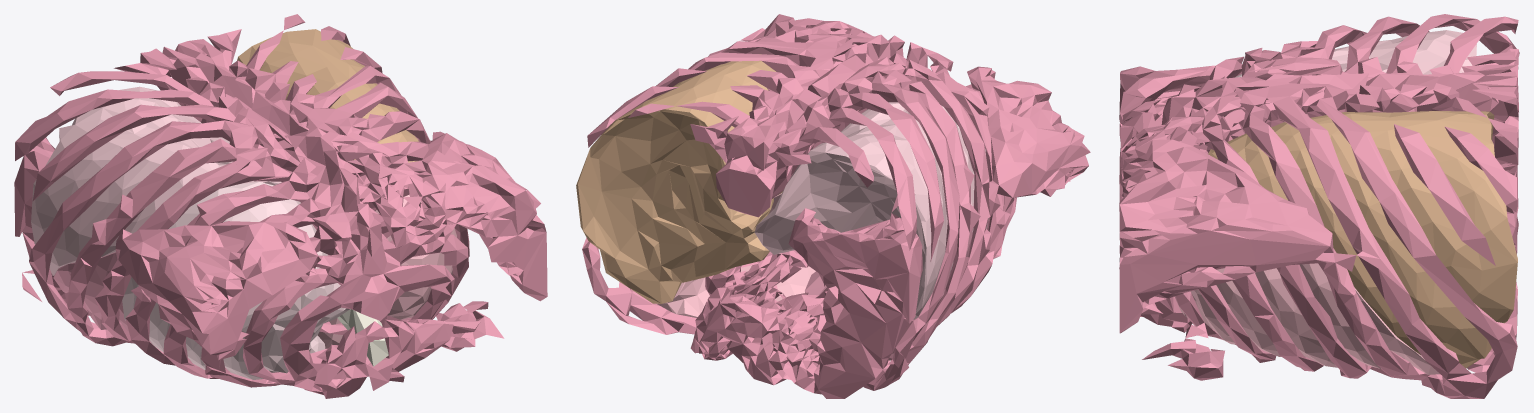
File: anatomy_parts_colored_v1.glb
The picture shows the model from 3 angles, left to right: view 1: azimuth 30°, elevation 25°; view 2: azimuth 150°, elevation 25°; view 3: azimuth 270°, elevation 25°; orthographic projection. The views are drawn at different scales.
Visible parts, largest first — view 1: left_lower_lobe_6, right_middle_lobe_3, left_upper_lobe_5, bronchus_1, right_upper_lobe_2, right_lower_lobe_4, sternum_bone_0; view 2: left_lower_lobe_6, bronchus_1, right_middle_lobe_3, right_upper_lobe_2, right_lower_lobe_4; view 3: left_lower_lobe_6, bronchus_1, right_upper_lobe_2, right_middle_lobe_3.
Boxes of the visible parts, <box> form: left_lower_lobe_6: <box>14,14,547,398</box>; right_middle_lobe_3: <box>31,86,281,275</box>; left_upper_lobe_5: <box>122,182,349,379</box>; bronchus_1: <box>237,29,418,162</box>; right_upper_lobe_2: <box>317,194,456,348</box>; right_lower_lobe_4: <box>53,252,129,332</box>; sternum_bone_0: <box>337,309,388,366</box>; left_lower_lobe_6: <box>582,14,1090,398</box>; bronchus_1: <box>576,54,782,303</box>; right_middle_lobe_3: <box>754,102,974,319</box>; right_upper_lobe_2: <box>656,193,815,317</box>; right_lower_lobe_4: <box>805,203,973,360</box>; left_lower_lobe_6: <box>1119,14,1519,398</box>; bronchus_1: <box>1208,111,1517,368</box>; right_upper_lobe_2: <box>1175,153,1439,374</box>; right_middle_lobe_3: <box>1331,30,1497,159</box>.
Size of the model in its own units: 0.75 by 0.5246 by 0.7097.
